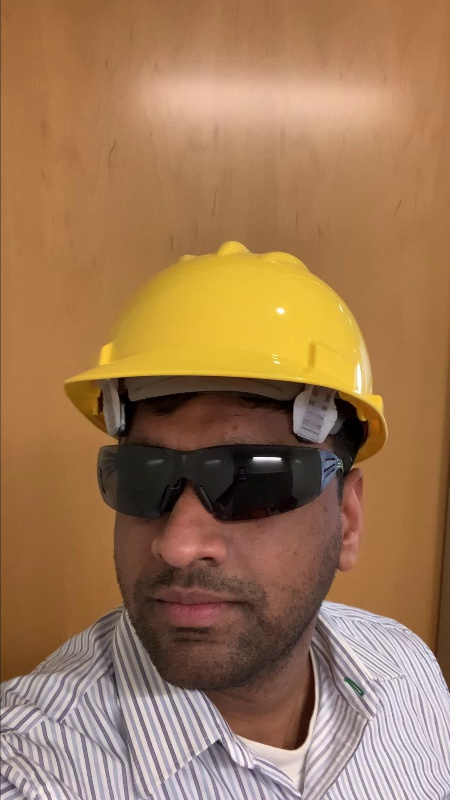glasses: (87, 434, 350, 519)
helmet: (43, 237, 407, 451)
